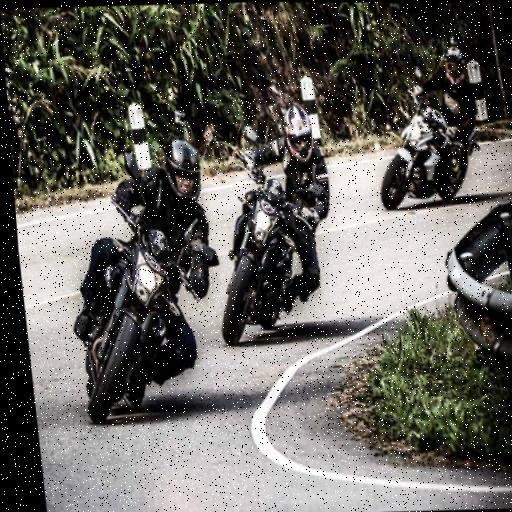Helmet: (152, 128, 207, 209), (276, 98, 320, 164), (440, 50, 469, 96)
Motor: (55, 218, 207, 428), (198, 132, 320, 366), (368, 80, 486, 218)
